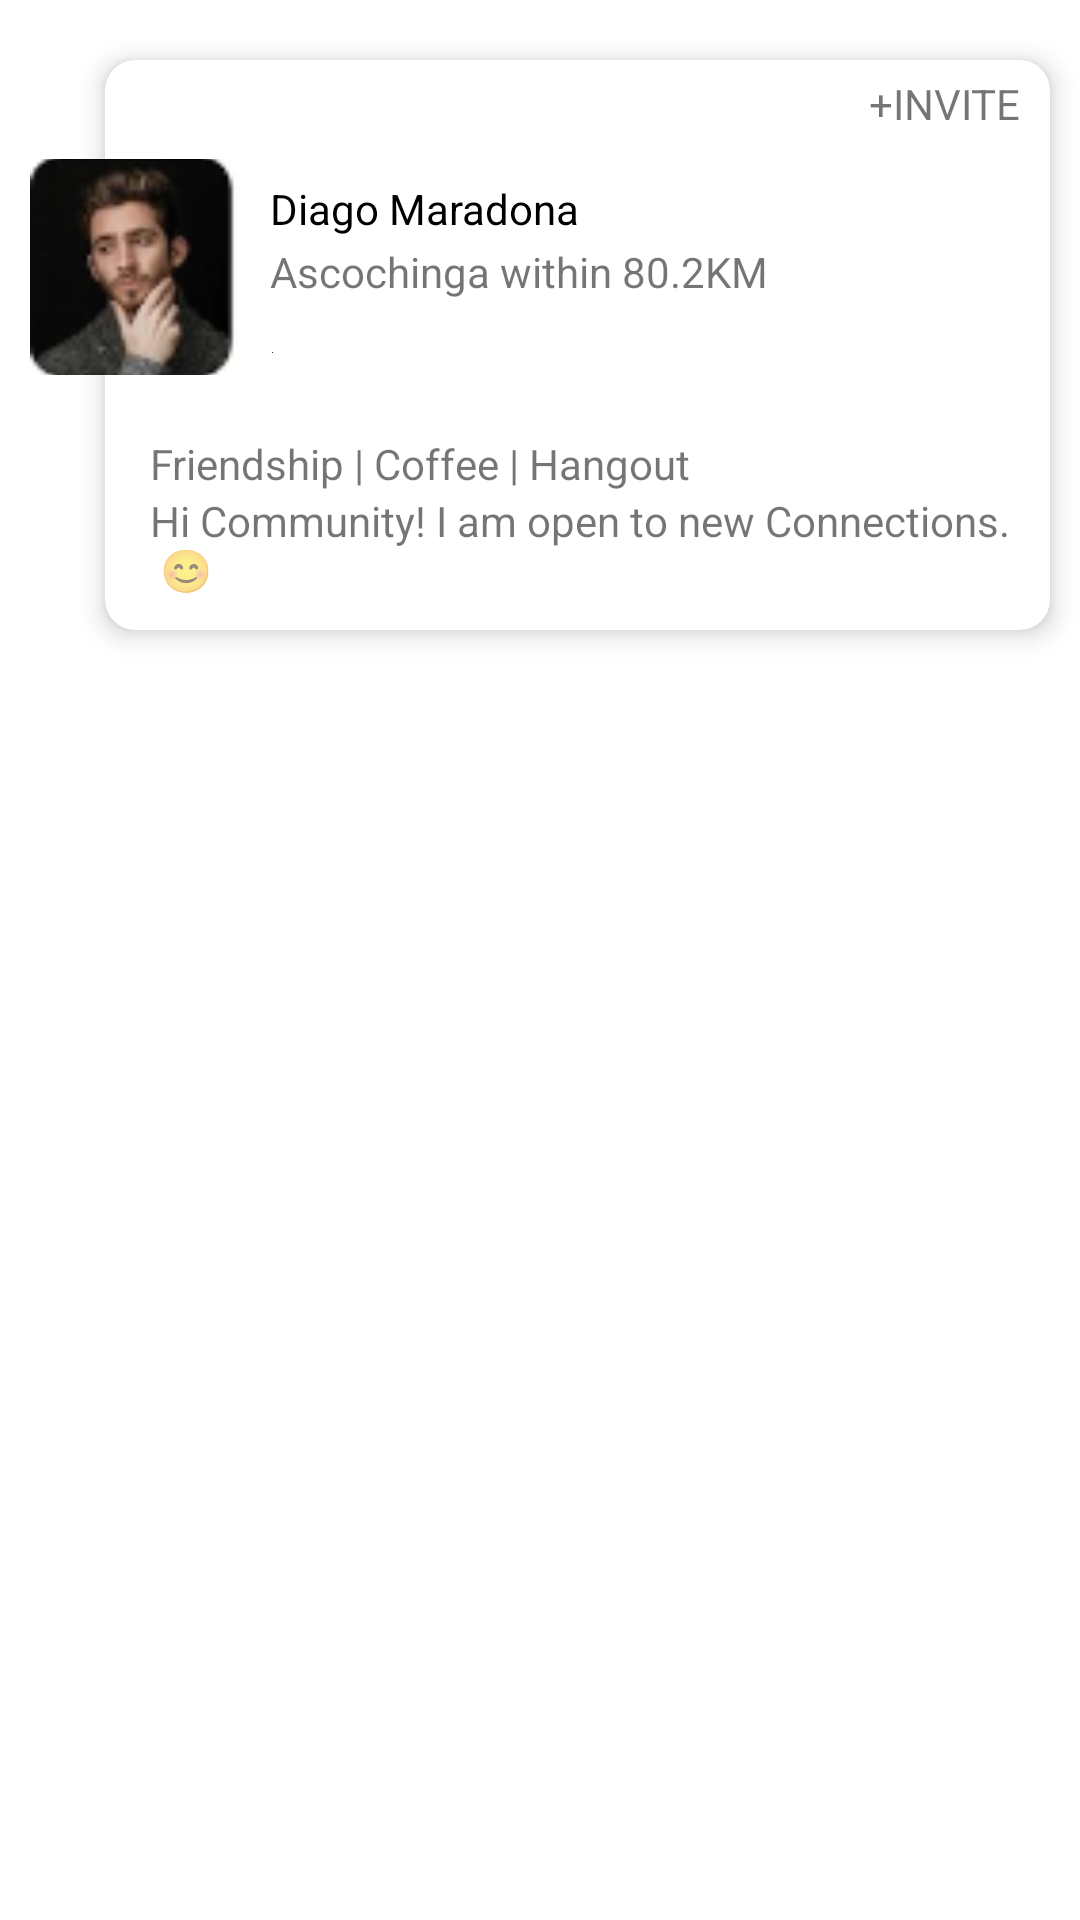

Icons on this 1080px×1920px Android screen, each with the point to tap as point (x, y):
person: point (132, 267)
